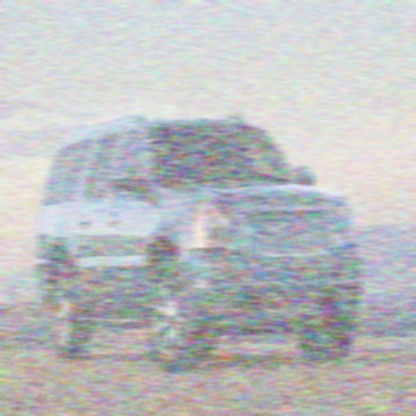Vehicle: (35, 108, 363, 371)
